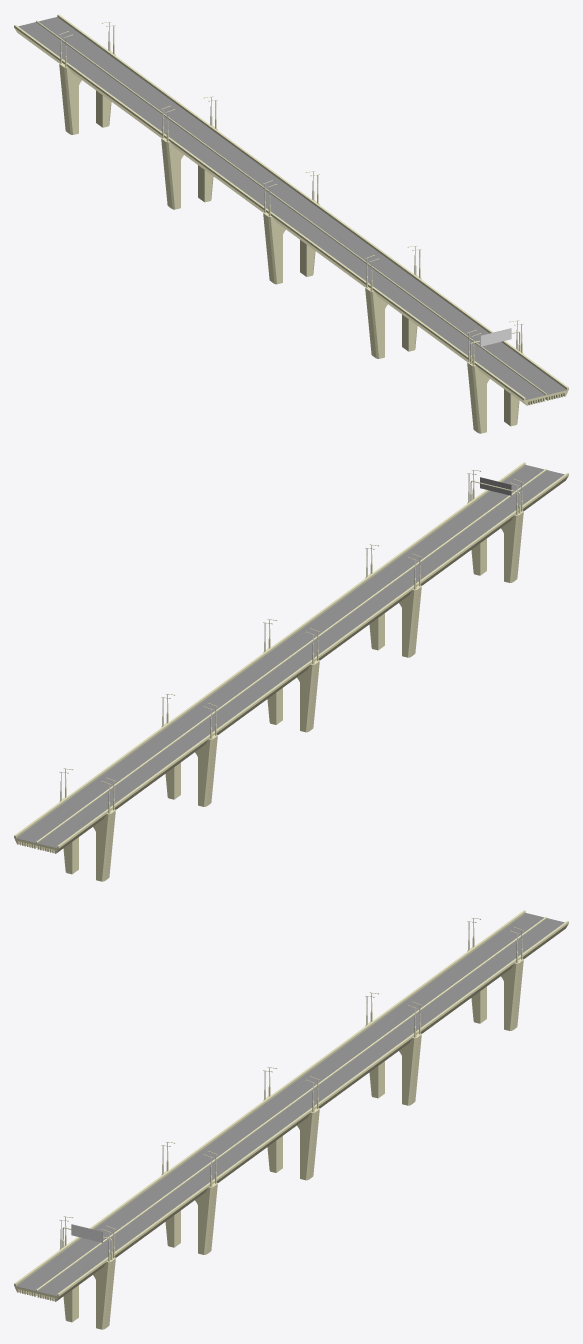
File: bridge.glb
The picture shows the model from 3 angles, top to bottom: view 1: azimuth 30°, elevation 25°; view 2: azimuth 150°, elevation 25°; view 3: azimuth 330°, elevation 25°; orthographic projection.
Visible parts, largest first — view 1: SketchUp_ID3, SketchUp.001_ID11, SketchUp.010_ID67; view 2: SketchUp_ID3, SketchUp.001_ID11, SketchUp.010_ID67; view 3: SketchUp_ID3, SketchUp.010_ID67, SketchUp.001_ID11.
Boxes of the visible parts, x1,y1,x2,y2 form: SketchUp_ID3: (14,14,568,433); SketchUp.001_ID11: (38,17,566,394); SketchUp.010_ID67: (18,22,545,399); SketchUp_ID3: (14,462,568,881); SketchUp.001_ID11: (16,465,544,842); SketchUp.010_ID67: (37,470,564,847); SketchUp_ID3: (14,910,568,1329); SketchUp.010_ID67: (16,913,544,1290); SketchUp.001_ID11: (37,918,564,1295).
Bounding box in the file's own units: 22.31 × 40.4 × 375.
